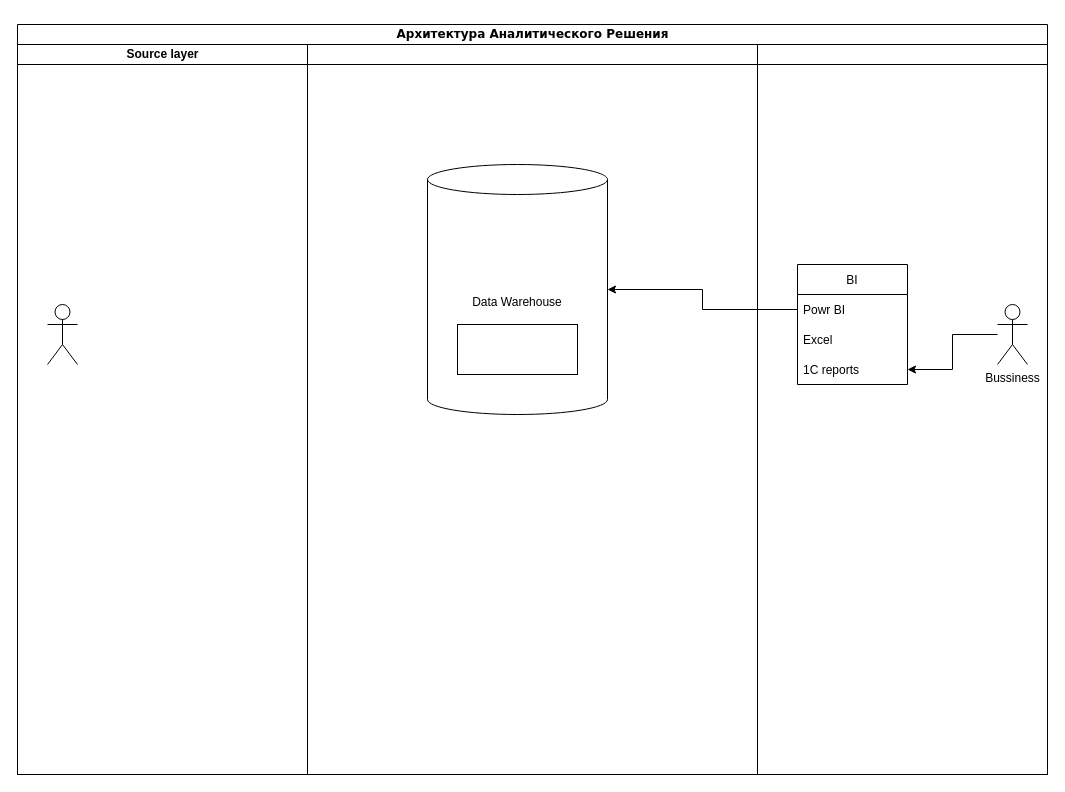
Image size: 1065x792. Some labels were removed from this diagram. Here are the shapes that lost their labels. From the top down, the box of each, then its label:
(46, 304, 78, 364): Customer
(306, 44, 758, 774): Storage layer
(756, 44, 1048, 774): Bussiness layer
